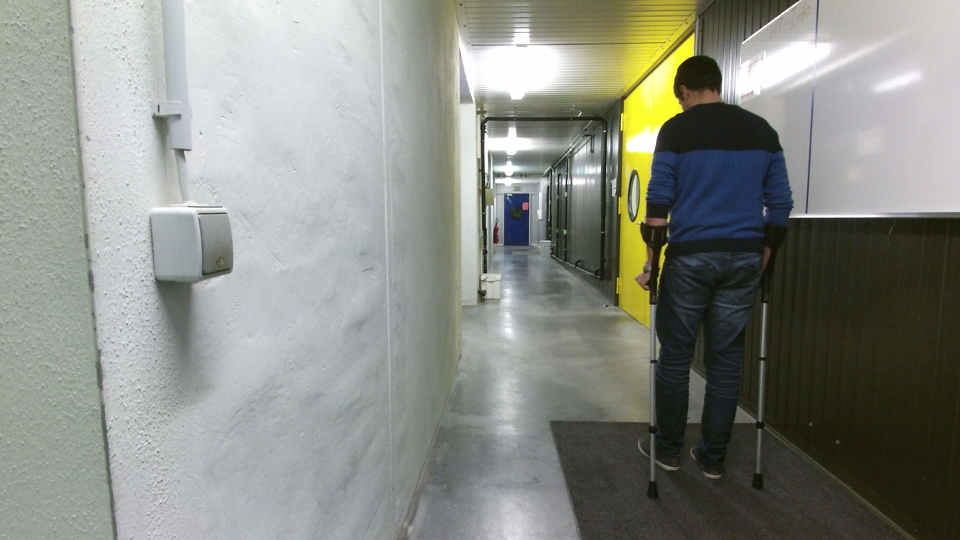crutches: (635, 49, 798, 504)
